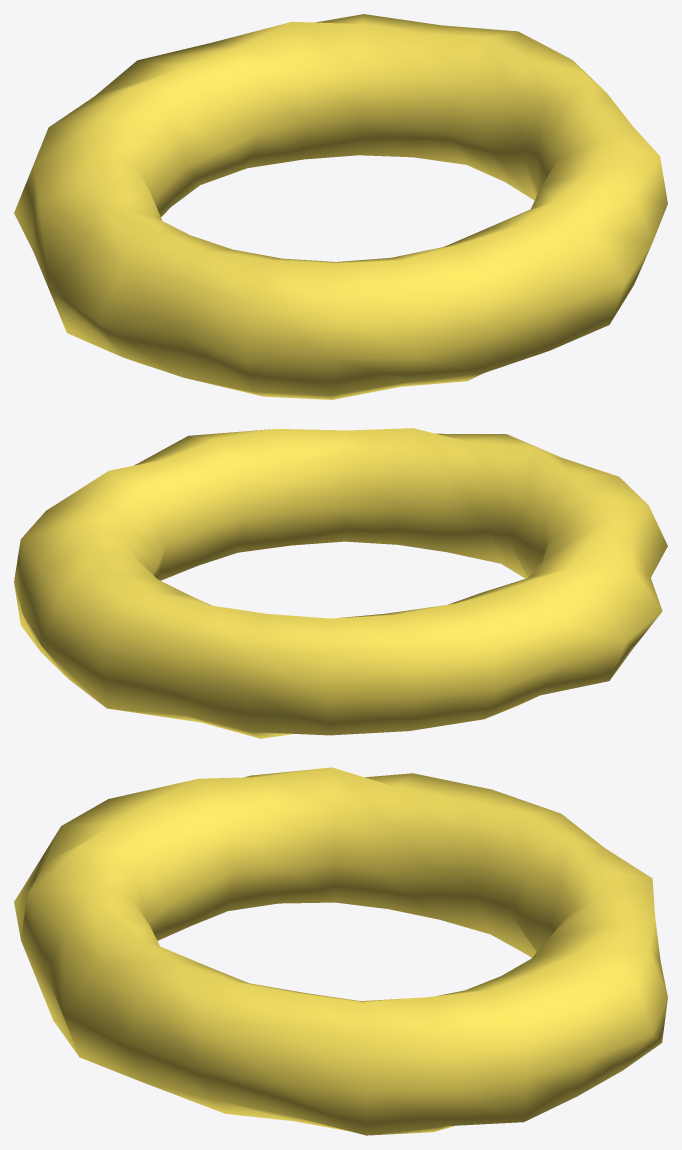
Rendered from OnionRing3.fbx.
3 views of the same model, one above another, from view 1: azimuth 30°, elevation 25°; view 2: azimuth 150°, elevation 25°; view 3: azimuth 270°, elevation 25° (orthographic). The views are drawn at different scales.
Parts seen in each view (by area): view 1: OnionRing_Raw.002; view 2: OnionRing_Raw.002; view 3: OnionRing_Raw.002.
Part boxes in pixels (x1=…): OnionRing_Raw.002: x1=14, y1=14, x2=667, y2=399; OnionRing_Raw.002: x1=14, y1=428, x2=667, y2=738; OnionRing_Raw.002: x1=14, y1=767, x2=667, y2=1135.
Size of the model in its own units: 12.45 by 2.64 by 11.92.
